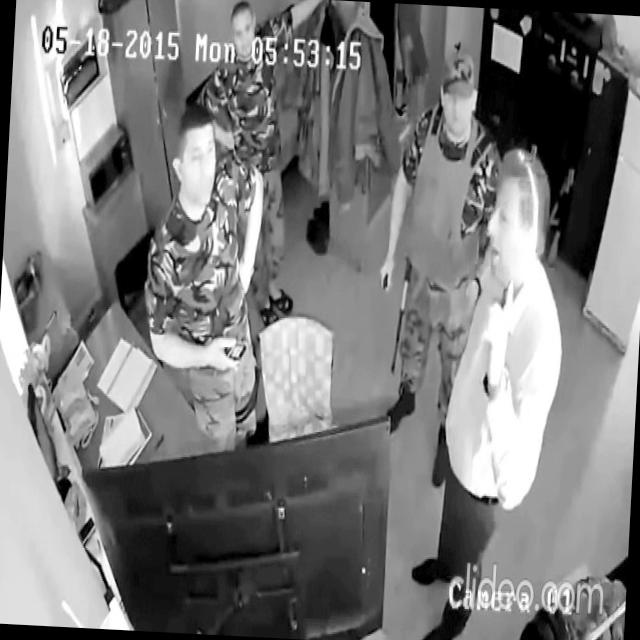gun: (542, 116, 588, 270), (390, 252, 414, 375)
person: (406, 142, 573, 640), (136, 99, 274, 456), (185, 0, 326, 327)
person with a gun: (366, 44, 509, 496)
